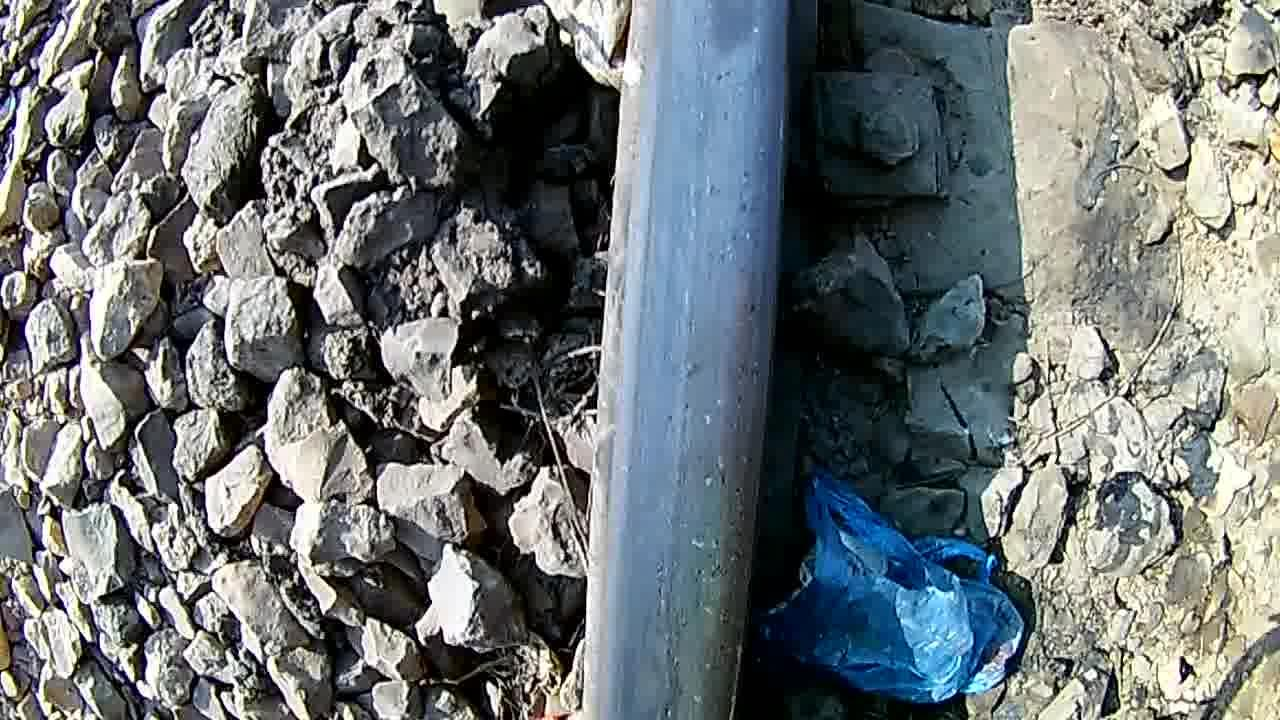bolt_missing: (676, 0, 785, 83)
